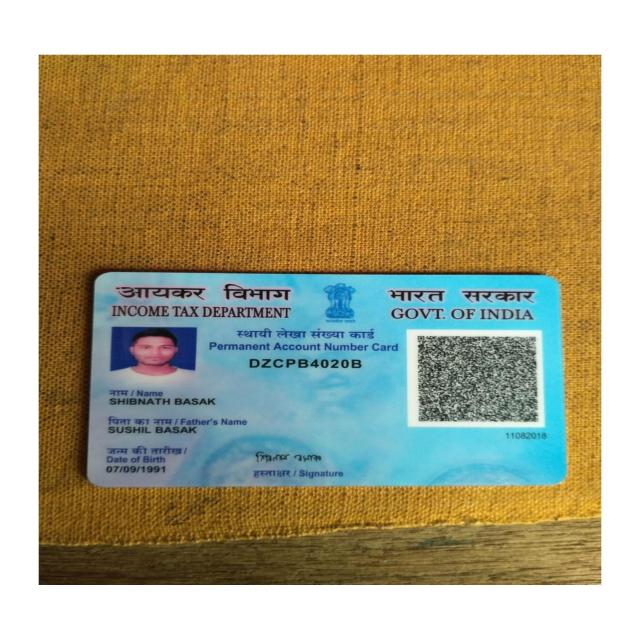pan_card: (89, 276, 558, 487)
